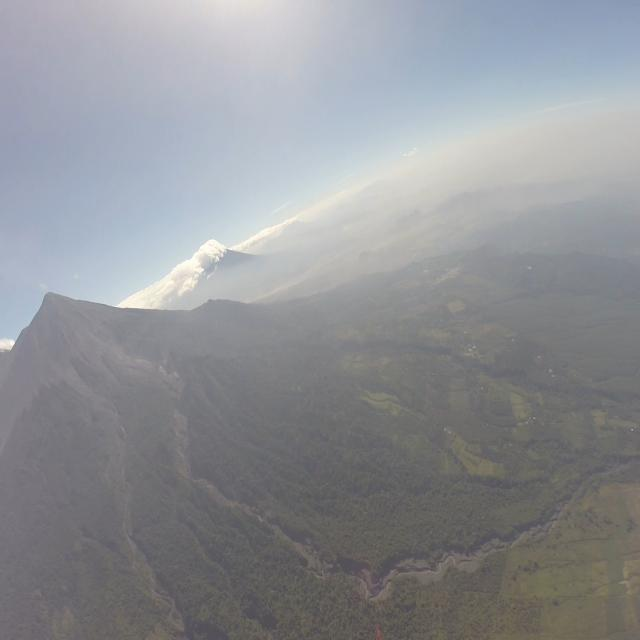Summit: (36, 284, 68, 318)
